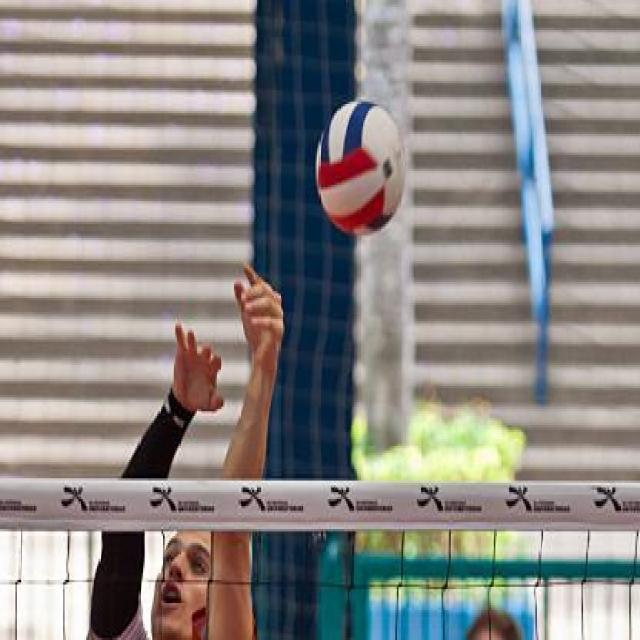volleyball: (315, 100, 406, 236)
